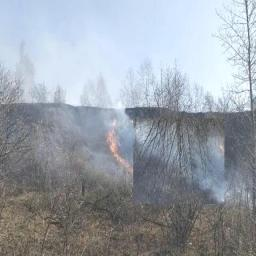Low smoke: (145, 111, 242, 208), (19, 73, 99, 187)
Small fire: (103, 118, 136, 184)
